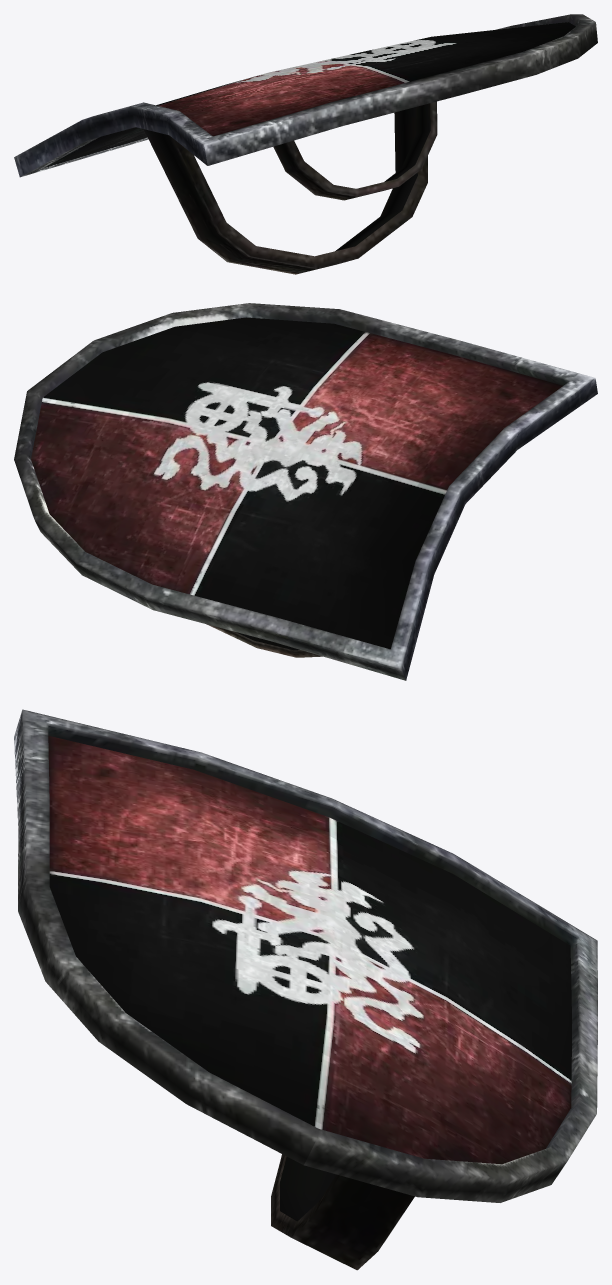
Rendered from KM_SHIELD_01.glb.
The picture shows the model from 3 angles, top to bottom: view 1: azimuth 30°, elevation 25°; view 2: azimuth 150°, elevation 25°; view 3: azimuth 270°, elevation 25°; orthographic projection. The views are drawn at different scales.
Visible parts, largest first — view 1: Mesh; view 2: Mesh; view 3: Mesh.
Part boxes in pixels (x1,y1,x2,y2): Mesh: [14, 14, 597, 274]; Mesh: [14, 303, 597, 680]; Mesh: [14, 709, 597, 1270].
Size of the model in its own units: 0.6063 by 0.3182 by 0.4327.
Materials: 1 (1 with a texture image).
